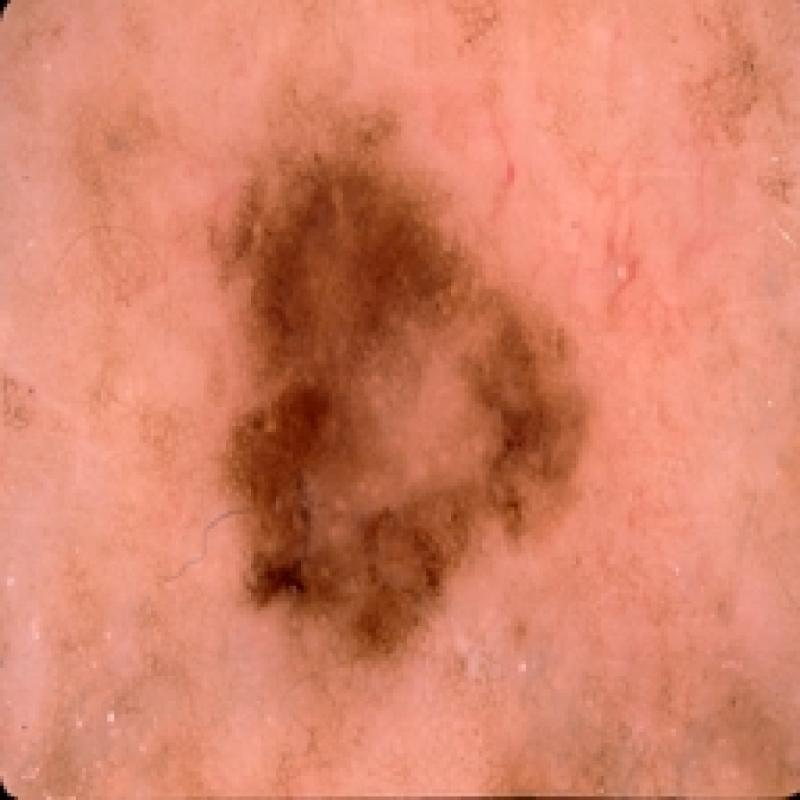malignant: (195, 83, 617, 662)
